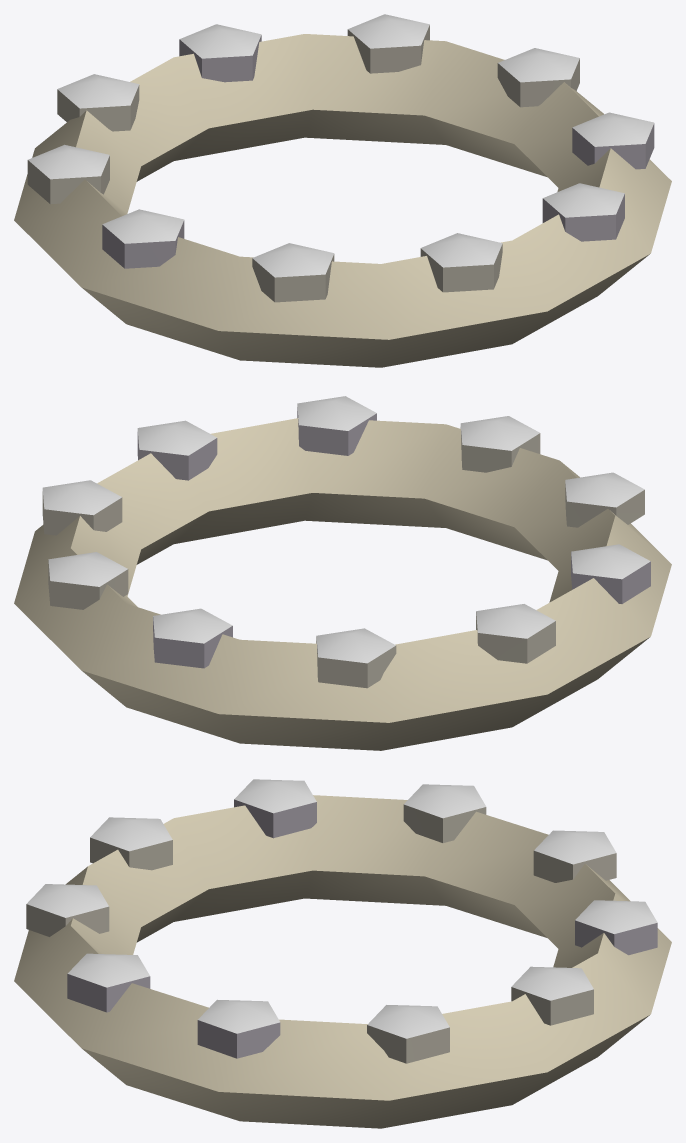
Rendered from ph_item_wax_wreath.glb.
The picture shows the model from 3 angles, top to bottom: view 1: azimuth 30°, elevation 25°; view 2: azimuth 150°, elevation 25°; view 3: azimuth 270°, elevation 25°; orthographic projection.
Visible parts, largest first — view 1: ph_item_wax_wreath; view 2: ph_item_wax_wreath; view 3: ph_item_wax_wreath.
Part boxes in pixels (x1,y1,x2,y2): ph_item_wax_wreath: (14,14,671,367); ph_item_wax_wreath: (14,396,671,750); ph_item_wax_wreath: (14,779,671,1128).
Size of the model in its own units: 0.2872 by 0.057 by 0.2872.
